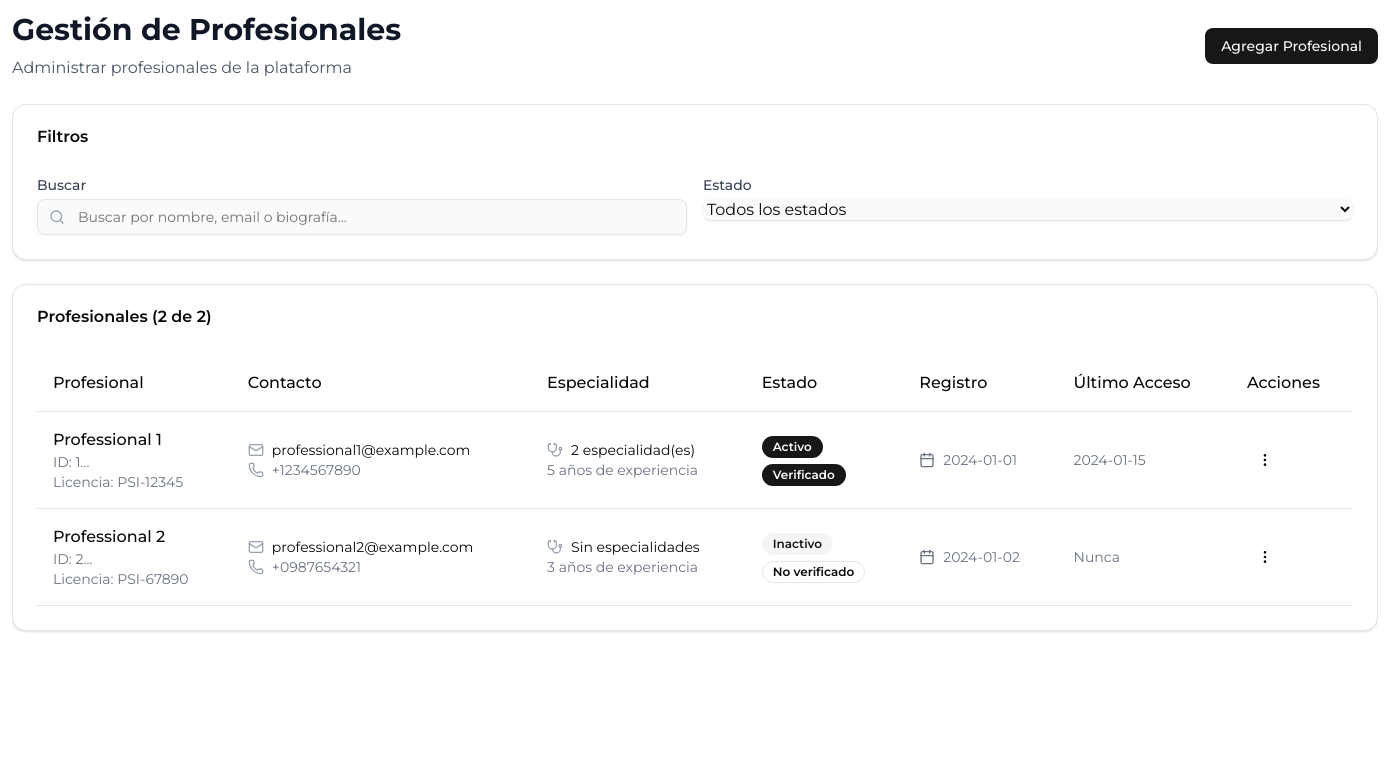
Test case: AdminProfessionals › should filter professionals by search term
The image size is (1390, 780).
Expected: the text "professional1@example.com" is shown, [272,440,470,460]
In the field with placeholder "Buscar por nombre, email o biografía...": (362, 217) [37,199,687,235], type "professional1"
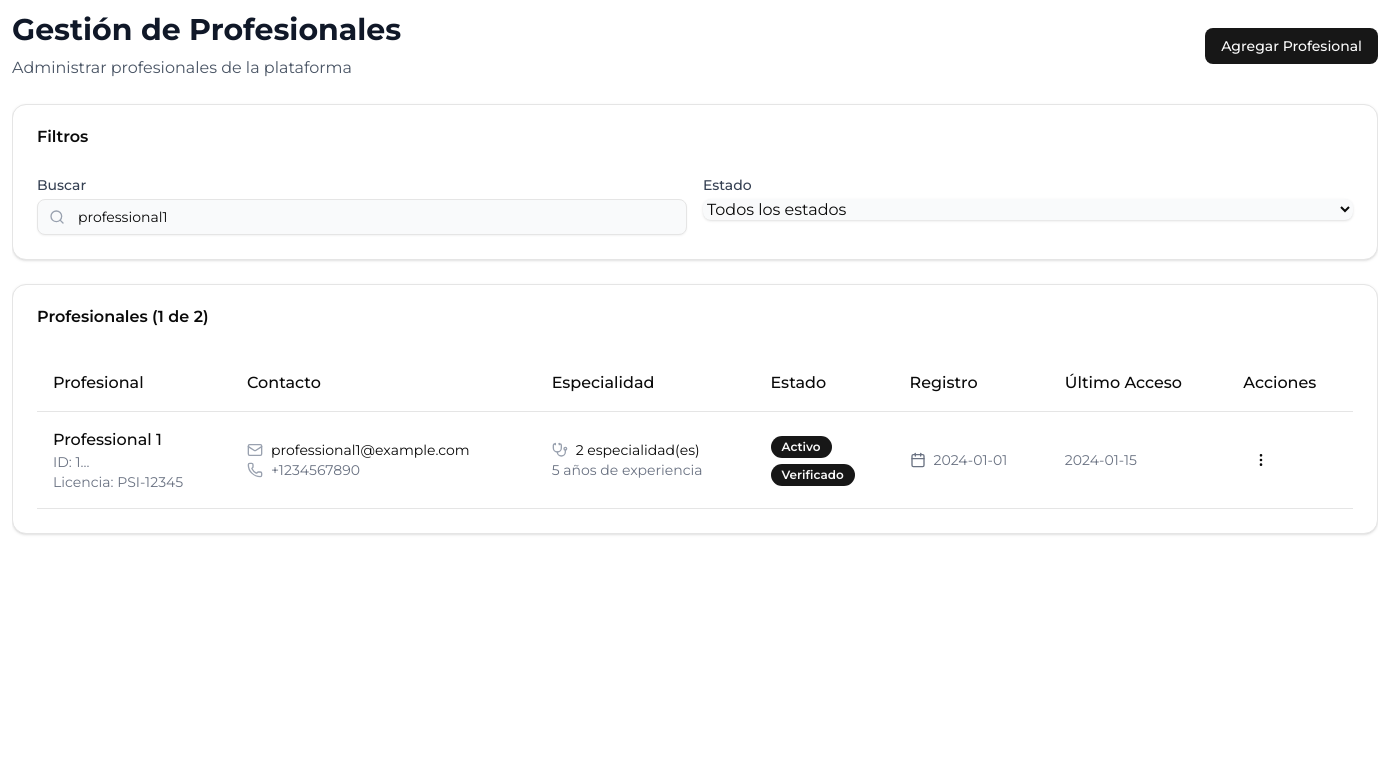
Expected: the text "professional1@example.com" is shown, [271,440,470,460]
Expected: the text "professional2@example.com" is gone
